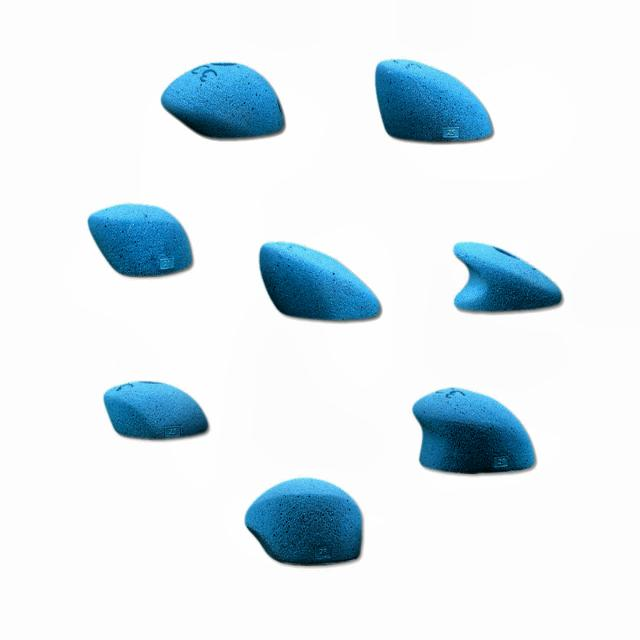Hold: (236, 478, 374, 569), (409, 385, 538, 476), (366, 59, 505, 143), (256, 237, 386, 321), (162, 63, 286, 140), (88, 201, 198, 281), (455, 232, 562, 314), (103, 376, 211, 441)
